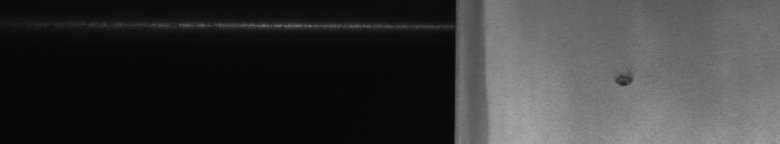fi: (611, 64, 639, 96)
